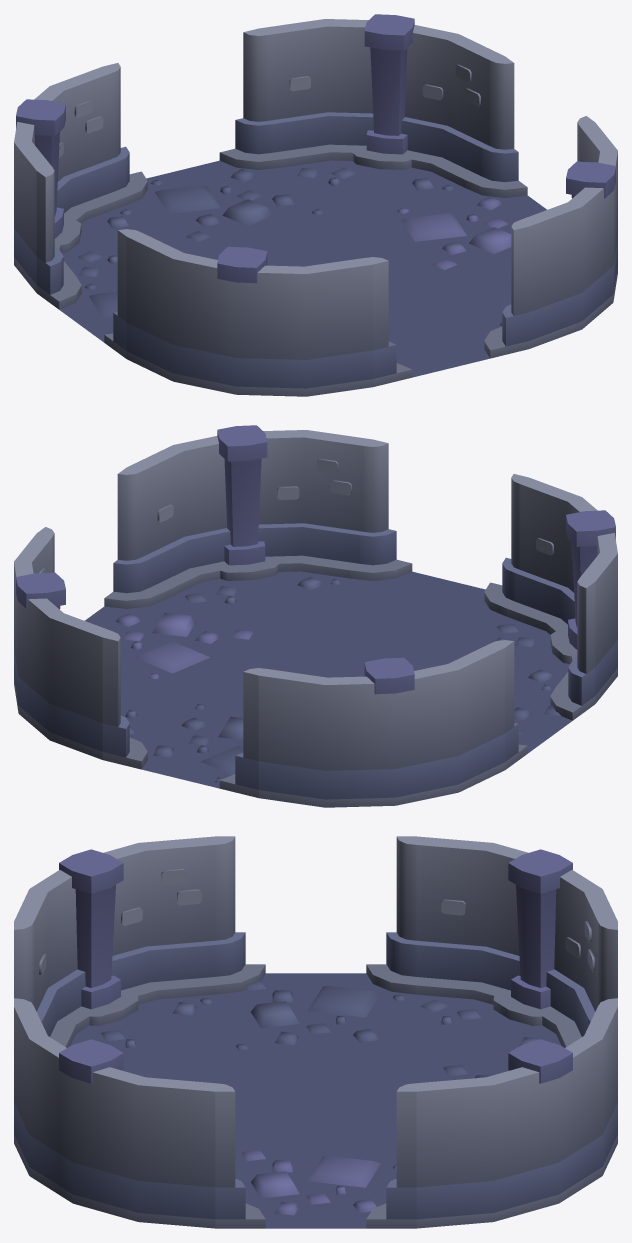
The model's file is room-small.fbx.
The picture shows the model from 3 angles, top to bottom: view 1: azimuth 30°, elevation 25°; view 2: azimuth 150°, elevation 25°; view 3: azimuth 270°, elevation 25°; orthographic projection. The views are drawn at different scales.
Visible parts, largest first — view 1: room-small; view 2: room-small; view 3: room-small.
Part boxes in pixels (left/top/right/bottom): room-small: left=14, top=14, right=617, bottom=396; room-small: left=14, top=425, right=617, bottom=807; room-small: left=14, top=836, right=617, bottom=1228.
Bounding box in the file's own units: 1200 × 313 × 1200.
1 material, 1 textured.
